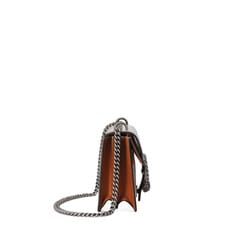Gucci: (95, 113, 161, 218), (138, 146, 156, 200)
